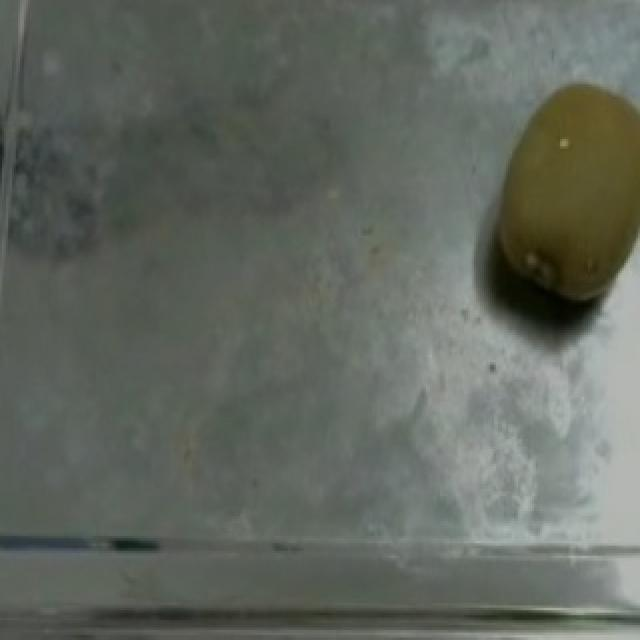Fruit: (456, 60, 640, 328)
